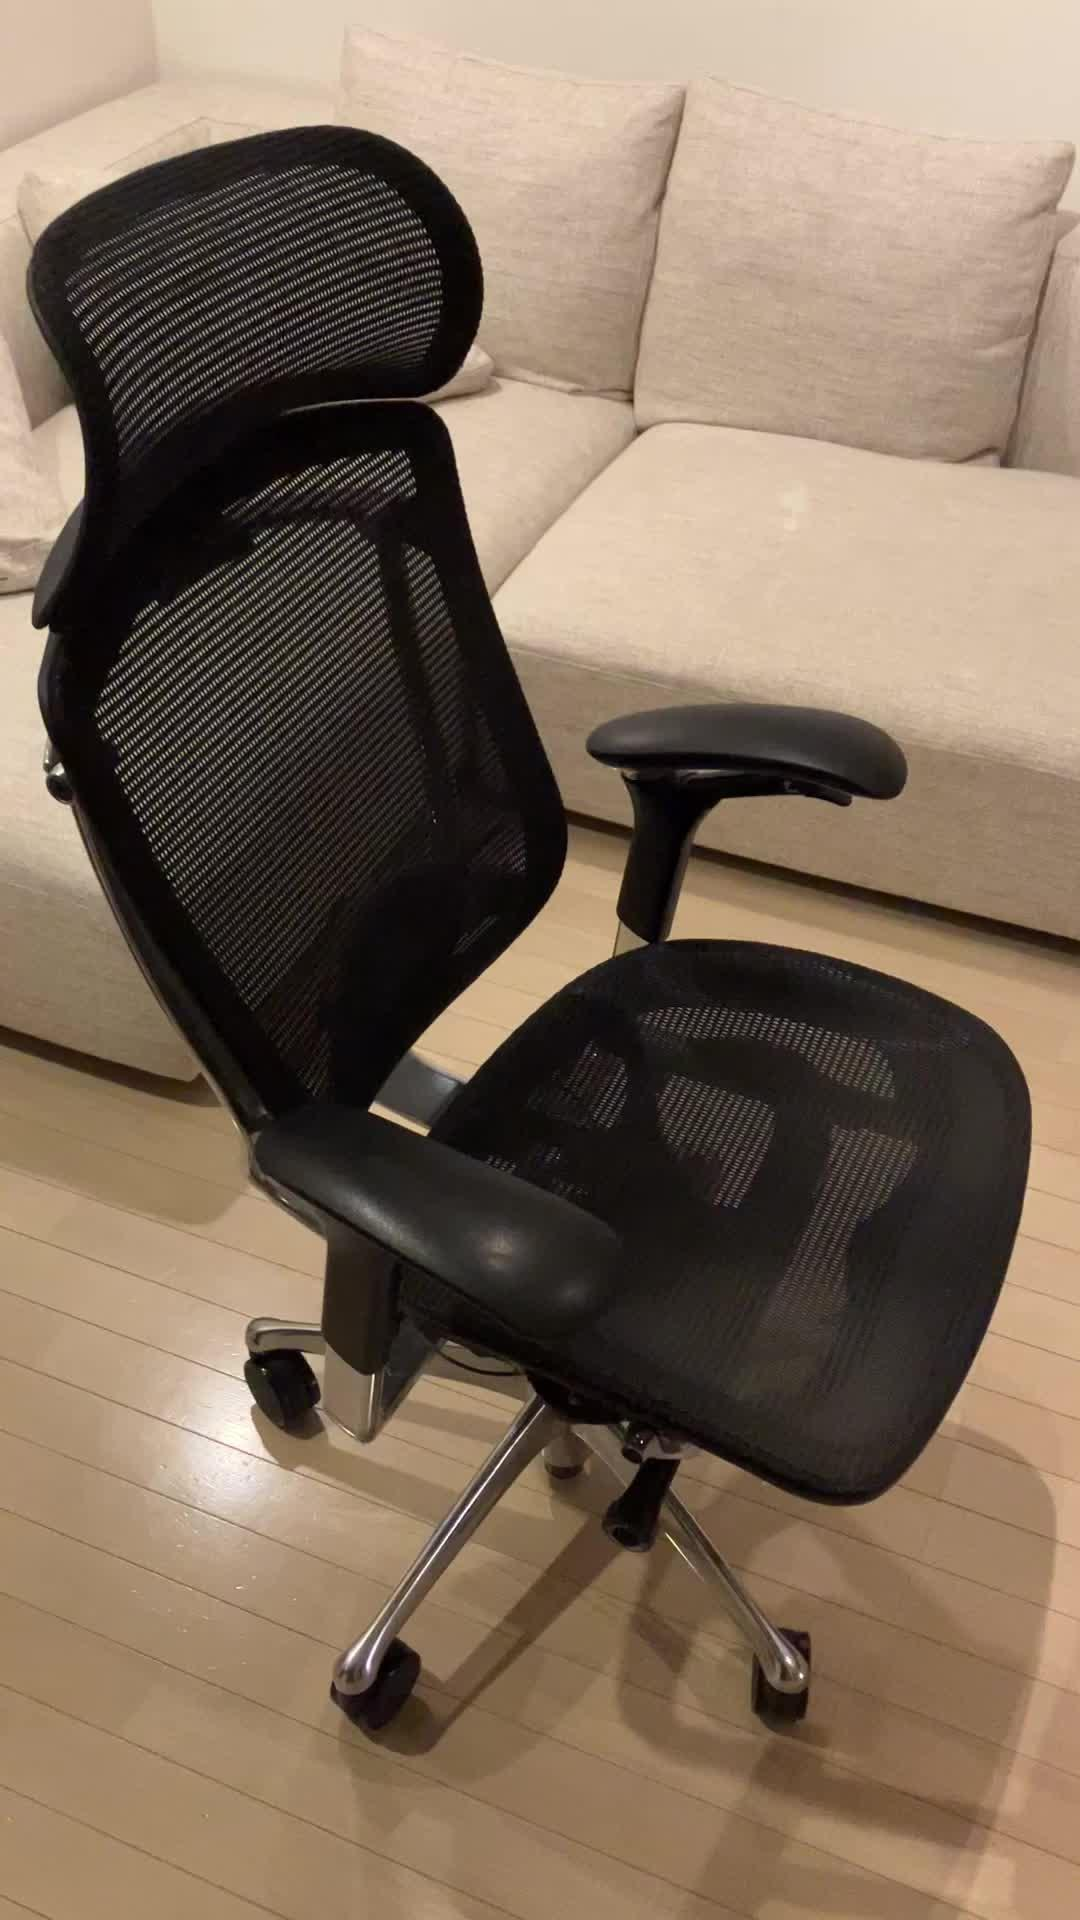okamura-contessa: (22, 113, 1038, 1760)
